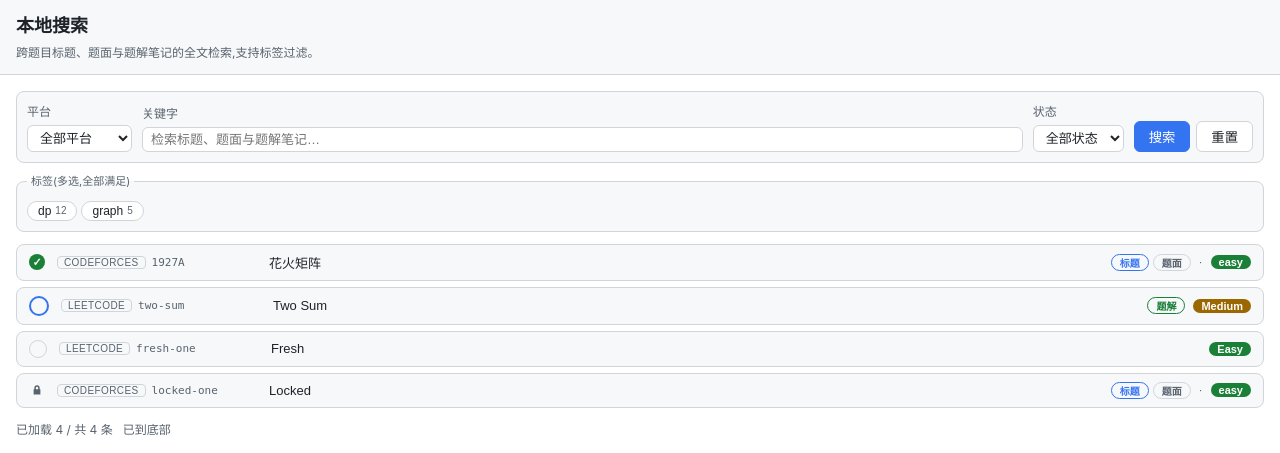
it: search page › filters loaded results by status locally without refetching
# 平台下拉为 select[0],状态下拉为 select[1]
Select "已解决" in the dropdown labelled "状态" at (1078, 139), box [1033,125,1124,152]
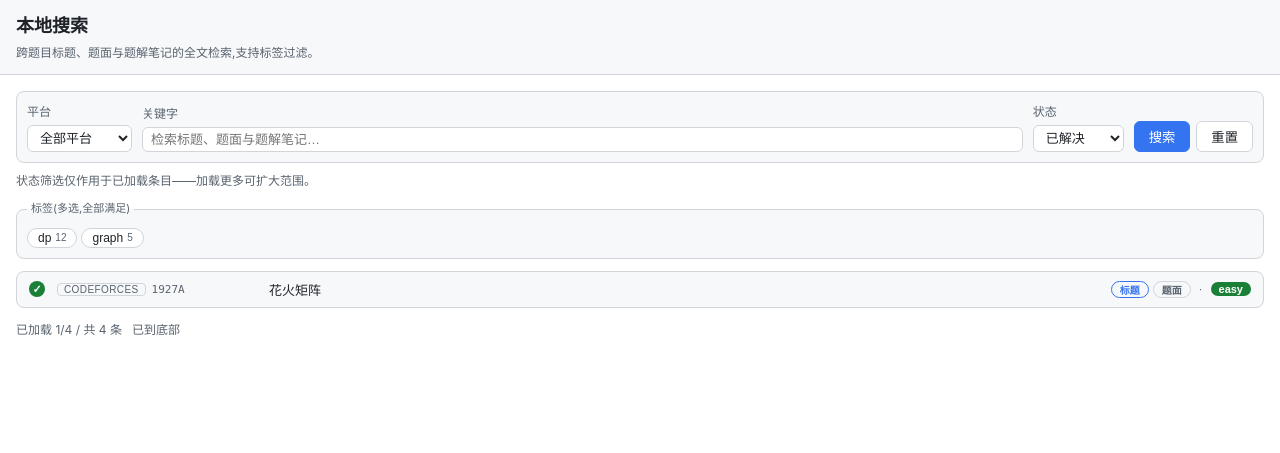
Expected: the text "1927A" is shown, [152,283,185,296]
Expected: the number of buttons with class "results__row" is 1, [16,271,1264,308]
Select "未解决" in the dropdown labelled "状态" at (1078, 139), box [1033,125,1124,152]
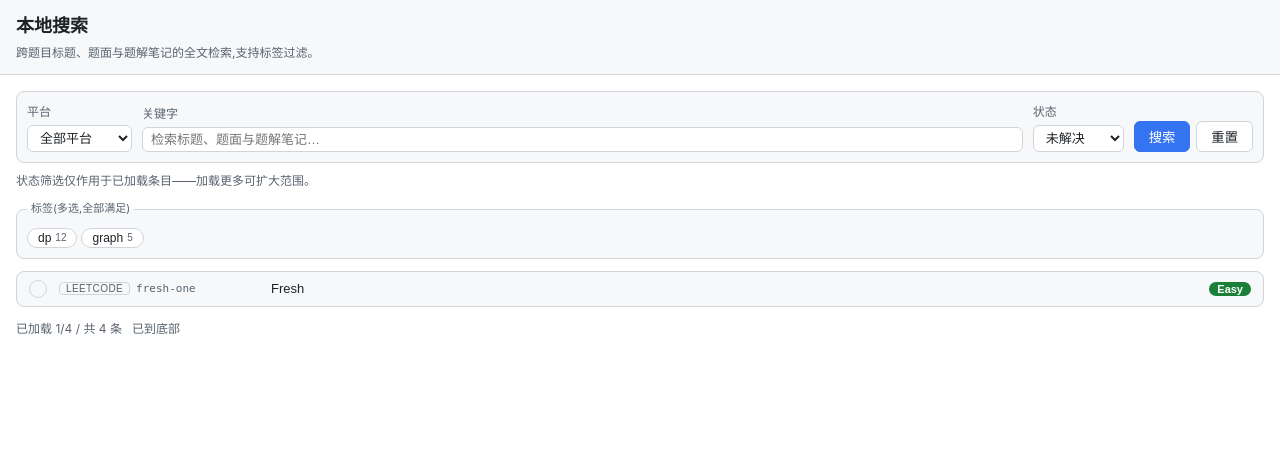
Expected: the number of buttons with class "results__row" is 1, [16,271,1264,307]
Expected: the text "fresh-one" is shown, [136,282,196,296]
Select "全部状态" in the dropdown labelled "状态" at (1078, 139), box [1033,125,1124,152]
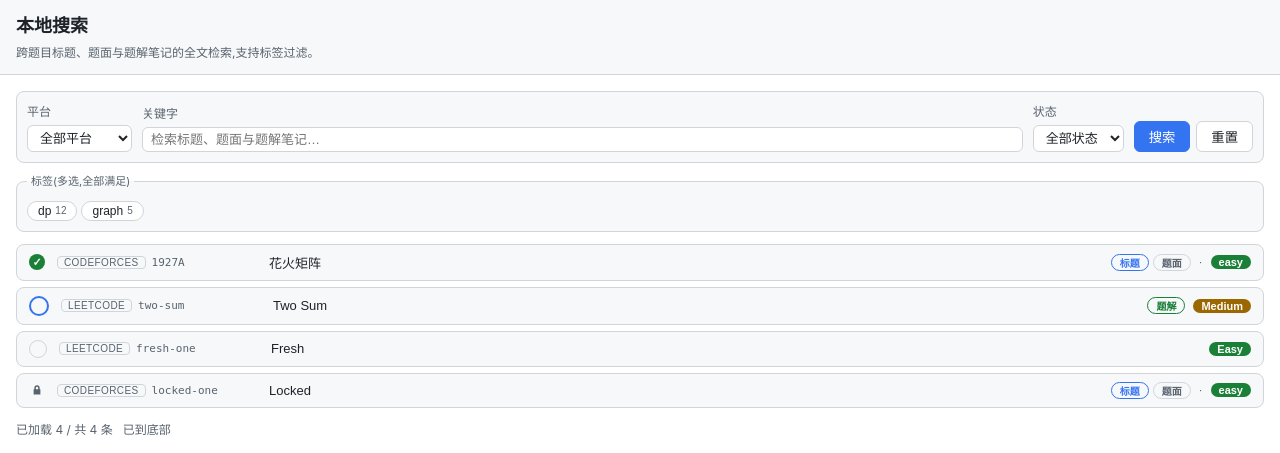
Expected: the number of buttons with class "results__row" is 4, [16,244,1264,281]; [16,287,1264,325]; [16,331,1264,367]; [16,373,1264,408]
